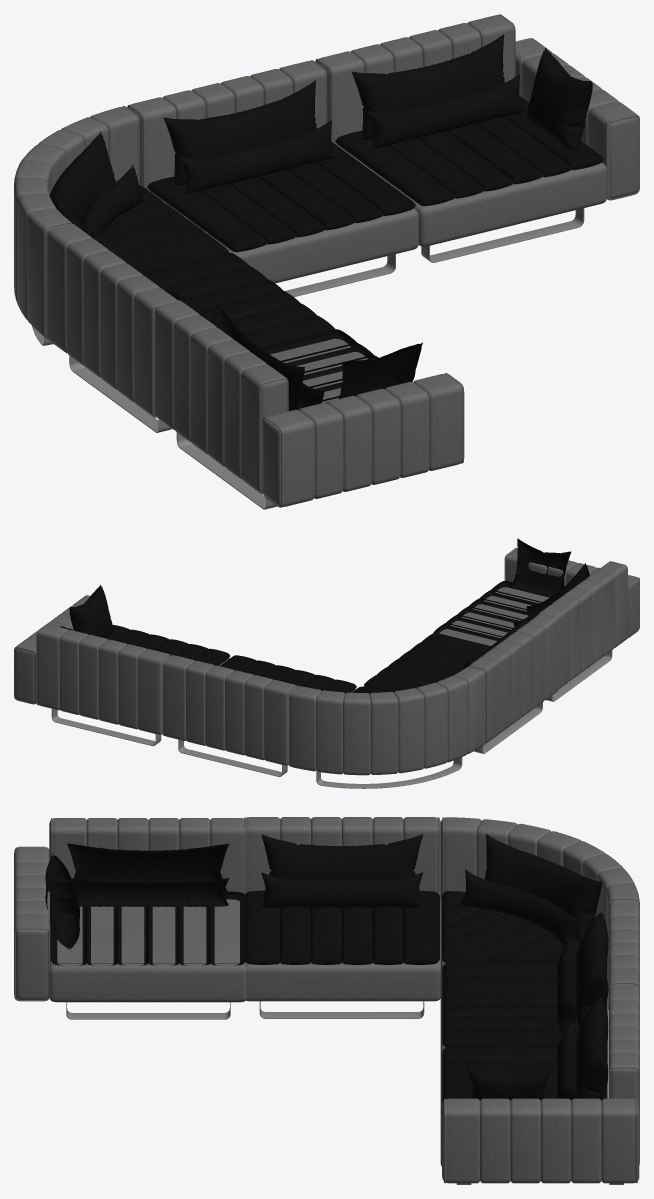
Rendered from sofa-set.glb.
The picture shows the model from 3 angles, top to bottom: view 1: azimuth 30°, elevation 25°; view 2: azimuth 150°, elevation 25°; view 3: azimuth 270°, elevation 25°; orthographic projection. The views are drawn at different scales.
Parts seen in each view (by area): view 1: Sofa, Seats, Cushion Square; view 2: Sofa, Seats, Cushion Square; view 3: Sofa, Cushion Square, Seats.
Boxes of the visible parts, x1,y1,x2,y2 form: Sofa: [14, 14, 639, 509]; Seats: [102, 95, 603, 403]; Cushion Square: [49, 34, 592, 410]; Sofa: [14, 547, 639, 788]; Seats: [105, 581, 549, 694]; Cushion Square: [60, 538, 589, 693]; Sofa: [14, 817, 639, 1184]; Cushion Square: [45, 834, 608, 1100]; Seats: [50, 890, 606, 1102].
Size of the model in its own units: 6.35 by 1.41 by 6.28.
3 materials, 2 textured.
